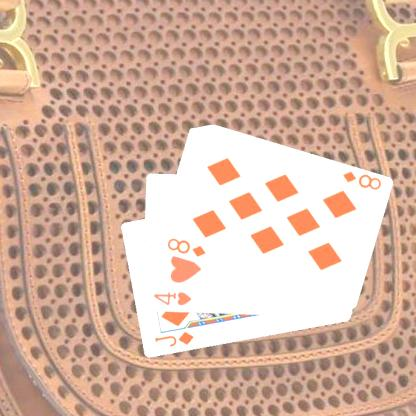4H: (150, 289, 192, 308)
8D: (339, 168, 383, 192), (164, 236, 207, 258)
JD: (152, 328, 195, 349)
